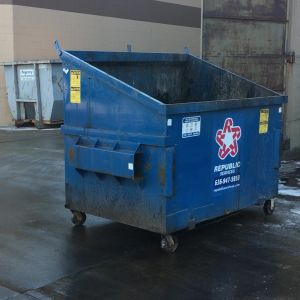Dumpster: (52, 35, 291, 256)
